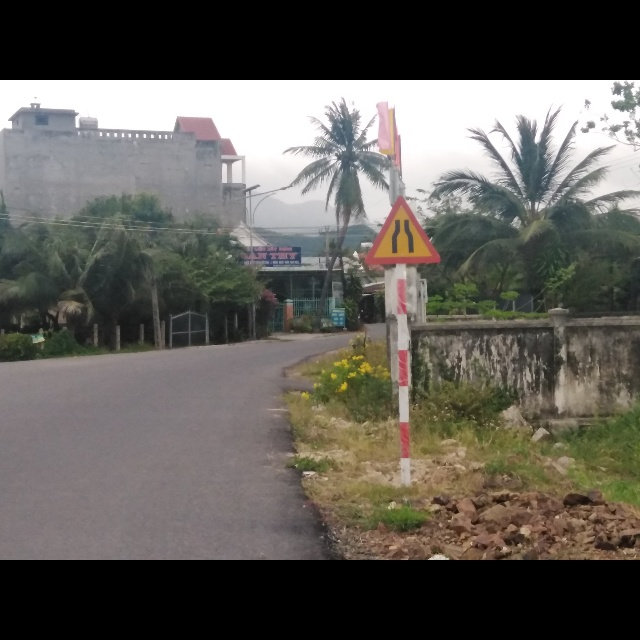Đường bị hẹp cả hai bên: (365, 199, 441, 266)
